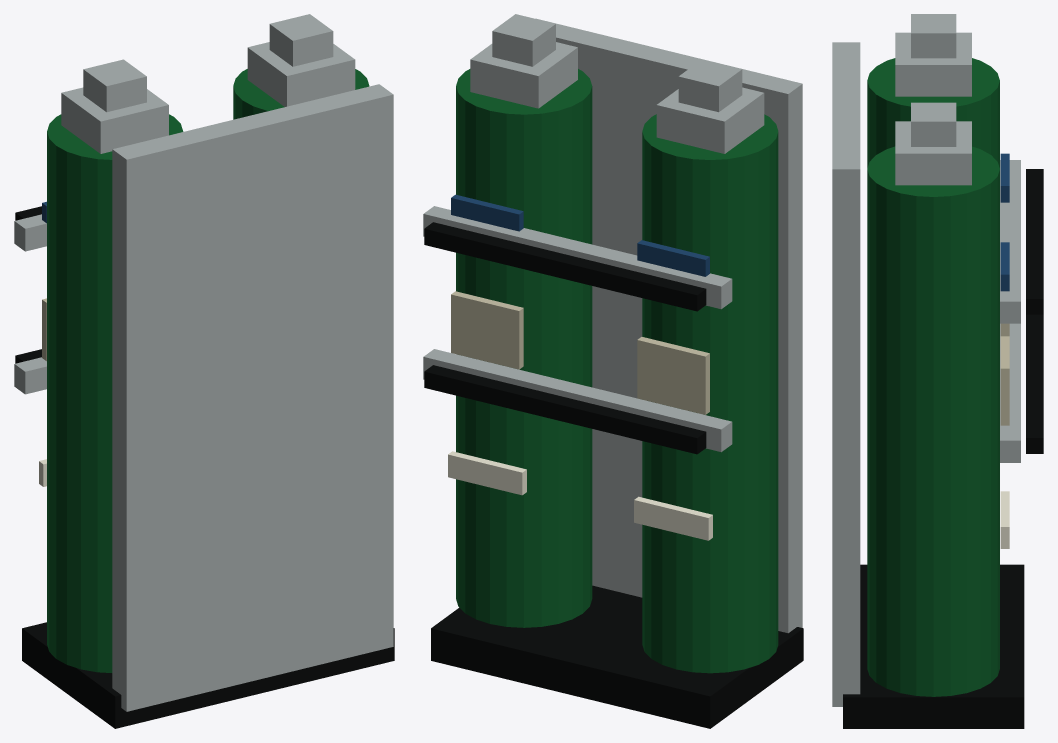
File: ambulance_oxygen_cylinders.obj
The picture shows the model from 3 angles, left to right: view 1: azimuth 30°, elevation 25°; view 2: azimuth 150°, elevation 25°; view 3: azimuth 270°, elevation 25°; orthographic projection. The views are drawn at different scales.
Visible parts, largest first — view 1: ambulance_oxygen_cylinders; view 2: ambulance_oxygen_cylinders; view 3: ambulance_oxygen_cylinders.
Part boxes in pixels (x1=…): ambulance_oxygen_cylinders: x1=14, y1=14, x2=394, y2=728; ambulance_oxygen_cylinders: x1=423, y1=14, x2=803, y2=728; ambulance_oxygen_cylinders: x1=832, y1=14, x2=1043, y2=728.
Size of the model in its own units: 0.98 by 1.88 by 0.605.
